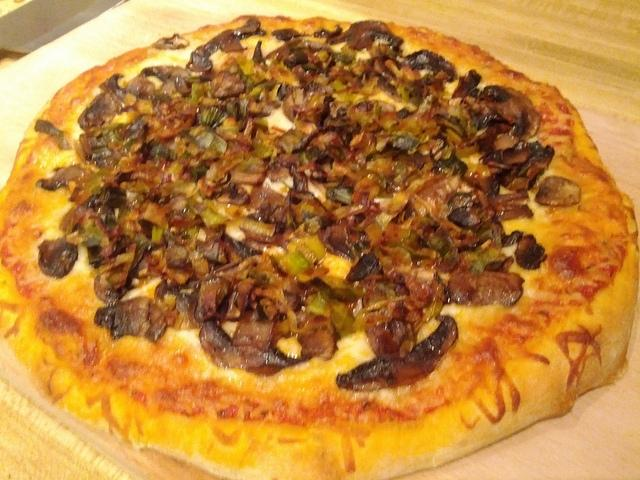mushroom: (336, 315, 459, 392), (198, 317, 312, 370), (93, 296, 169, 342), (483, 86, 542, 140), (448, 270, 524, 308), (502, 145, 555, 193), (413, 174, 461, 218), (401, 49, 458, 84), (298, 312, 339, 360), (86, 186, 126, 232), (194, 274, 232, 322), (38, 237, 78, 279), (94, 260, 132, 304), (78, 92, 118, 132), (322, 106, 362, 146), (448, 188, 488, 227), (292, 126, 344, 154), (534, 176, 581, 206), (232, 320, 276, 352), (288, 189, 326, 224), (222, 160, 266, 190), (487, 182, 529, 212), (514, 234, 548, 270), (323, 223, 356, 260), (157, 66, 192, 100), (186, 40, 221, 73), (246, 87, 281, 117), (222, 234, 264, 259), (346, 253, 380, 283), (489, 148, 533, 170), (138, 200, 168, 232), (36, 121, 71, 148), (99, 74, 126, 108), (436, 112, 468, 140), (214, 71, 244, 100), (232, 17, 266, 40), (251, 186, 285, 208), (282, 47, 310, 71), (378, 76, 402, 103), (326, 24, 358, 44), (151, 34, 190, 50), (166, 244, 190, 269), (268, 206, 288, 235), (288, 165, 308, 193), (271, 28, 309, 41), (54, 164, 80, 182), (109, 234, 126, 258), (324, 145, 346, 163), (174, 74, 192, 96), (464, 70, 482, 92), (294, 310, 316, 328), (356, 170, 375, 186), (180, 316, 198, 329), (277, 44, 290, 60), (228, 182, 238, 199), (318, 226, 328, 243), (161, 110, 177, 120), (474, 222, 484, 232)
